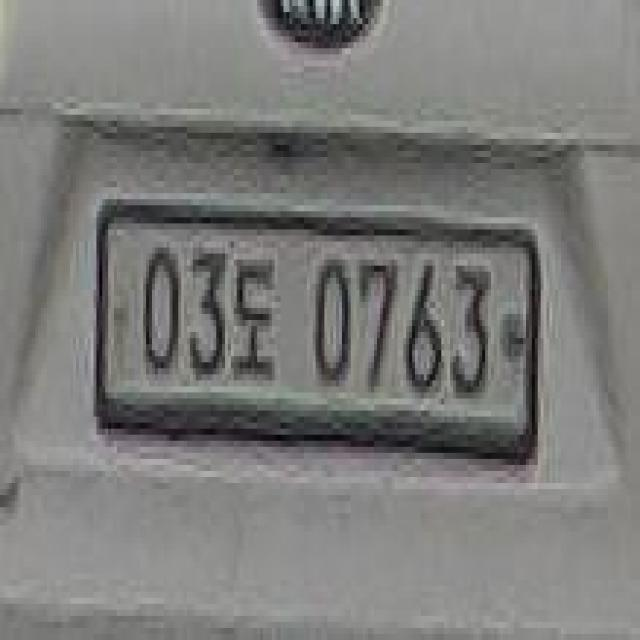illegal_plate: (92, 188, 540, 484)
